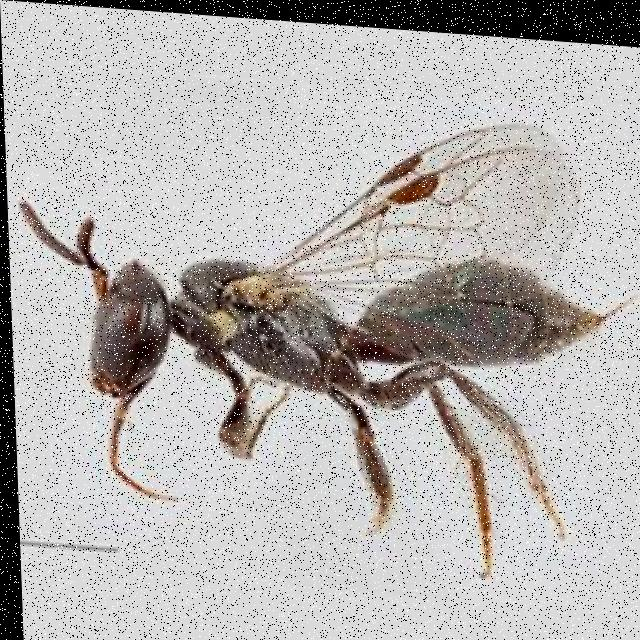Braunsapis: (26, 105, 630, 572)
